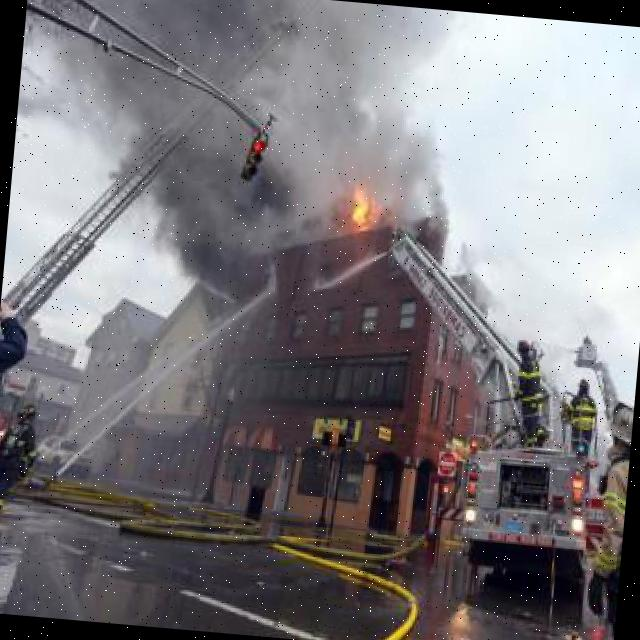fire: (327, 170, 402, 233)
